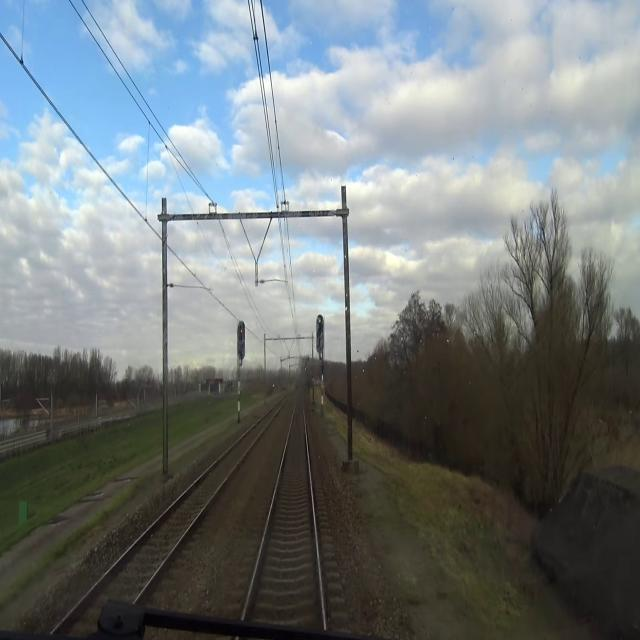rail-track: (51, 412, 272, 639), (245, 399, 322, 629)
